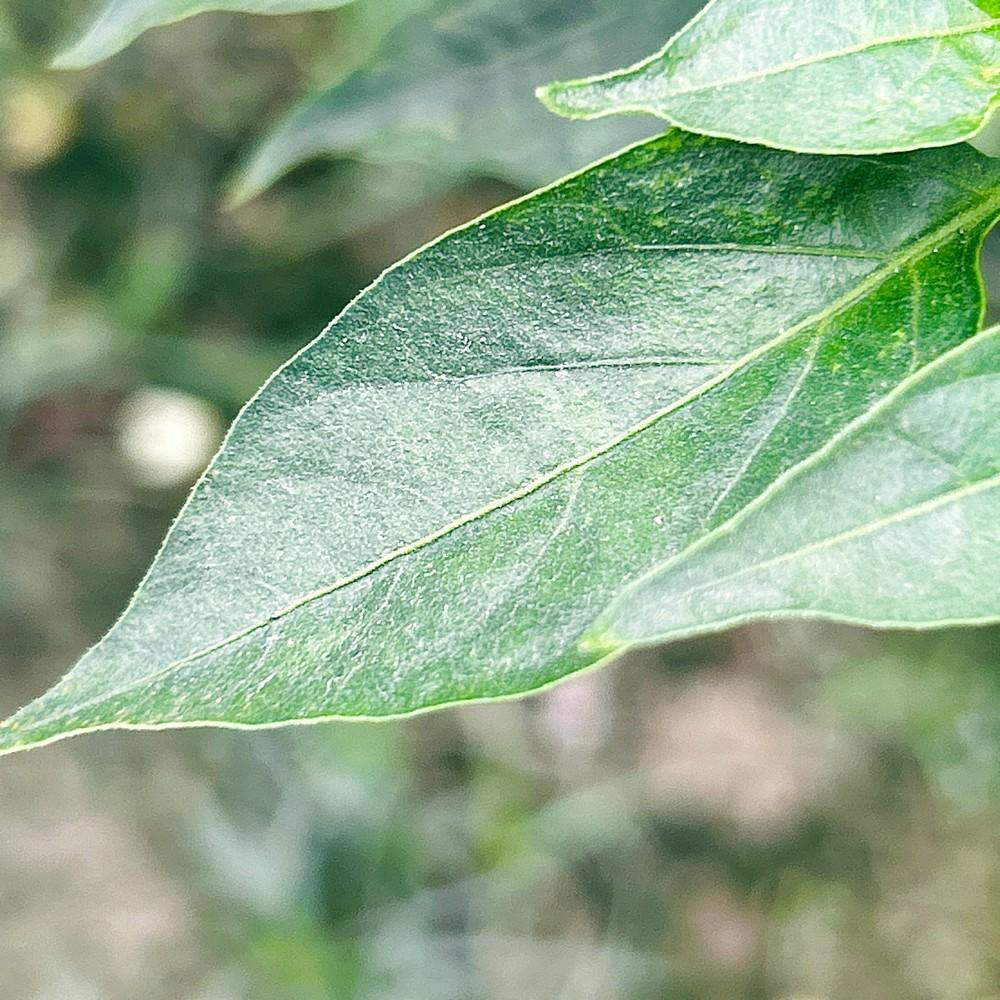Daun Cabai Sehat: (2, 1, 998, 763), (576, 327, 1000, 665), (526, 0, 1000, 163)
